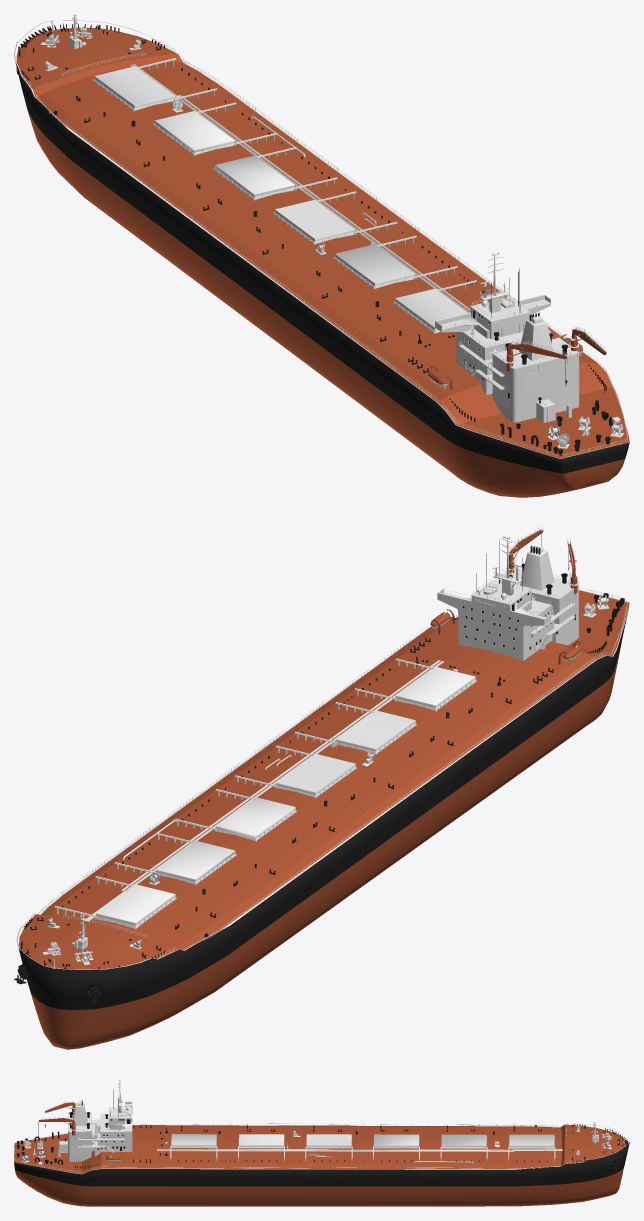
The model's file is 铁矿石船.glb.
3 renders of one model, top to bottom at view 1: azimuth 30°, elevation 25°; view 2: azimuth 150°, elevation 25°; view 3: azimuth 270°, elevation 25°, orthographic. The views are drawn at different scales.
Visible parts, largest first — view 1: 06_1, 06_4, 06_3, 06_2; view 2: 06_1, 06_4, 06_3, 06_2; view 3: 06_4, 06_1, 06_3, 06_2.
Part boxes in pixels (left/top/right/bottom): 06_1: left=16, top=27, right=629, bottom=458; 06_4: left=14, top=20, right=629, bottom=497; 06_3: left=20, top=14, right=627, bottom=456; 06_2: left=16, top=23, right=612, bottom=455; 06_1: left=19, top=529, right=629, bottom=969; 06_4: left=16, top=590, right=629, bottom=1049; 06_3: left=22, top=526, right=627, bottom=968; 06_2: left=14, top=533, right=624, bottom=1003; 06_4: left=14, top=1124, right=629, bottom=1206; 06_1: left=14, top=1102, right=625, bottom=1173; 06_3: left=14, top=1078, right=625, bottom=1172; 06_2: left=16, top=1090, right=628, bottom=1171.
Size of the model in its own units: 35.57 by 41.49 by 207.
3 materials, 3 textured.
